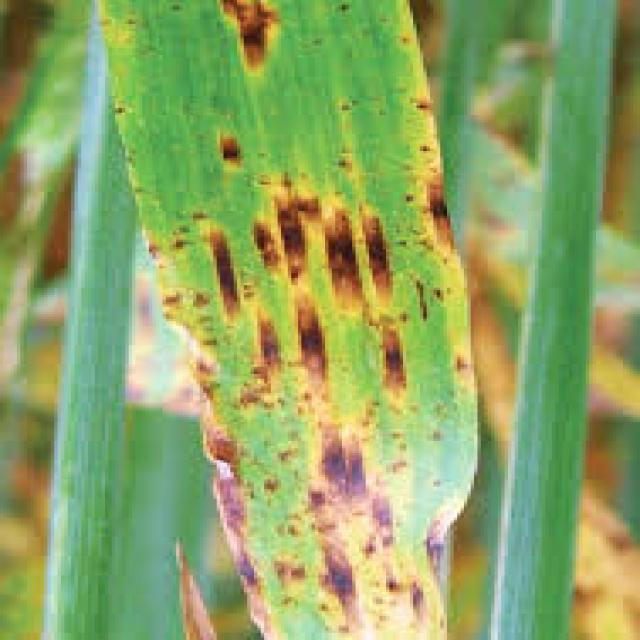leaf_blight: (102, 0, 474, 638)
